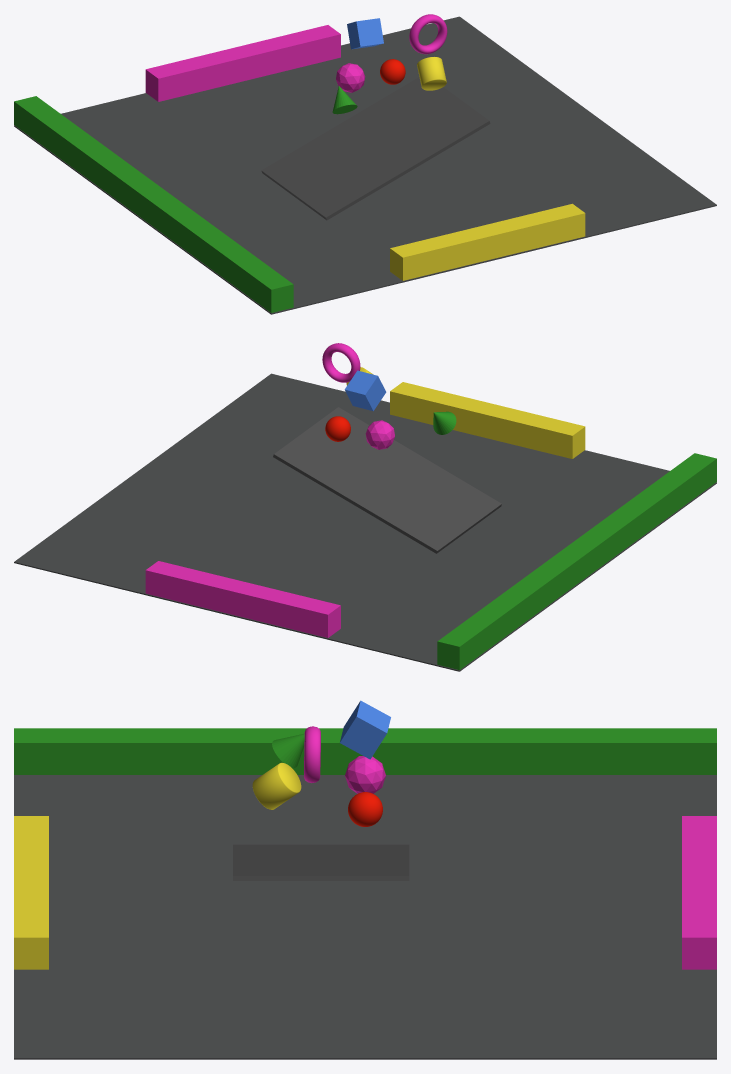
3 views of the same model, one above another, from view 1: azimuth 30°, elevation 25°; view 2: azimuth 150°, elevation 25°; view 3: azimuth 270°, elevation 25° (orthographic). The views are drawn at different scales.
Parts seen in each view (by area): view 1: StaticCubeFloor, StaticCubeSlider, StaticCubeWall-01, StaticCubeWall-01.001, StaticCubeWall-01.002, Cube, Torus, Cylinder, Icosphere, Sphere; view 2: StaticCubeFloor, StaticCubeSlider, StaticCubeWall-01, StaticCubeWall-01.002, StaticCubeWall-01.001, Cube, Torus, Icosphere, Sphere; view 3: StaticCubeFloor, StaticCubeWall-01, StaticCubeSlider, StaticCubeWall-01.001, StaticCubeWall-01.002, Cube, Cylinder, Icosphere, Sphere, Torus, Cone.
Boxes of the visible parts, x1,y1,x2,y2 form: StaticCubeFloor: (14, 16, 716, 314); StaticCubeSlider: (261, 77, 490, 220); StaticCubeWall-01: (14, 96, 293, 312); StaticCubeWall-01.001: (390, 203, 585, 280); StaticCubeWall-01.002: (145, 25, 340, 101); Cube: (347, 18, 383, 49); Torus: (409, 14, 447, 54); Cylinder: (417, 56, 446, 90); Icosphere: (336, 63, 365, 92); Sphere: (380, 59, 405, 84); StaticCubeFloor: (14, 373, 716, 671); StaticCubeSlider: (273, 407, 501, 553); StaticCubeWall-01: (437, 453, 716, 669); StaticCubeWall-01.002: (145, 561, 340, 637); StaticCubeWall-01.001: (390, 382, 585, 458); Cube: (344, 370, 386, 411); Torus: (322, 343, 360, 382); Icosphere: (365, 420, 394, 449); Sphere: (325, 416, 350, 441); StaticCubeFloor: (14, 775, 716, 1059); StaticCubeWall-01: (14, 728, 716, 774); StaticCubeSlider: (233, 844, 409, 880); StaticCubeWall-01.001: (14, 816, 48, 969); StaticCubeWall-01.002: (682, 816, 716, 969); Cube: (340, 700, 390, 759); Cylinder: (252, 762, 301, 809); Icosphere: (345, 756, 385, 793); Sphere: (348, 792, 382, 826); Torus: (304, 726, 320, 782); Cone: (272, 733, 304, 767).
Size of what is drawn, in the model's own units: 40 by 13.24 by 40.
